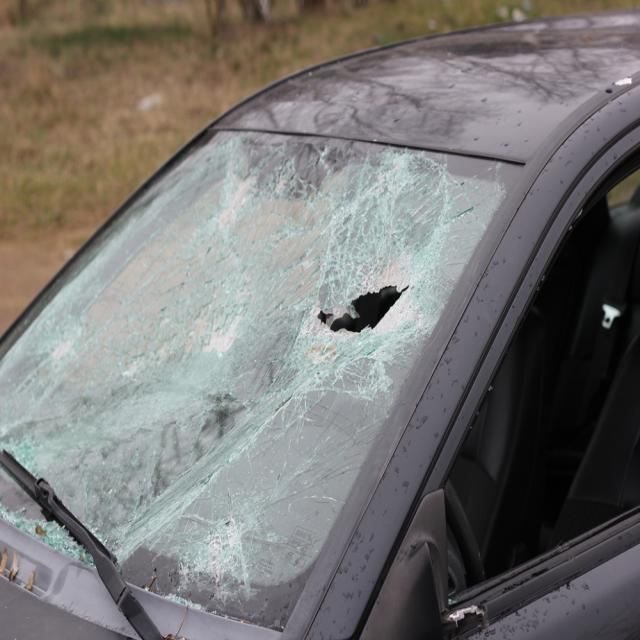Windshield: (81, 134, 488, 442), (150, 468, 298, 631)
